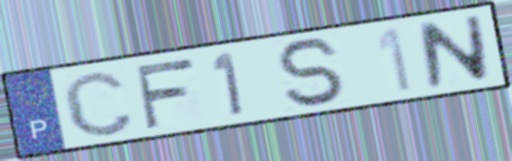1: (374, 24, 414, 95), (209, 49, 248, 119)
C: (59, 68, 138, 139)
F: (130, 55, 198, 132)
N: (415, 12, 493, 91)
S: (272, 35, 352, 109)
